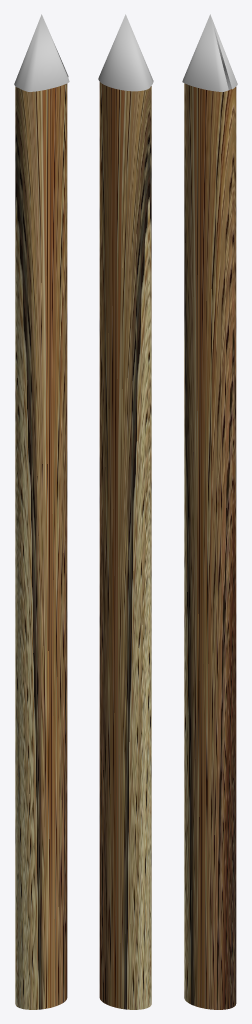
The model's file is Wooden Post.fbx.
The picture shows the model from 3 angles, left to right: view 1: azimuth 30°, elevation 25°; view 2: azimuth 150°, elevation 25°; view 3: azimuth 330°, elevation 25°; orthographic projection.
Parts seen in each view (by area): view 1: Cylinder, Cone_001; view 2: Cylinder, Cone_001; view 3: Cylinder, Cone_001, Cone.
Boxes of the visible parts, x1,y1,x2,y2 form: Cylinder: (15, 83, 67, 1009); Cone_001: (14, 14, 69, 91); Cylinder: (99, 82, 151, 1009); Cone_001: (98, 14, 153, 91); Cylinder: (184, 83, 236, 1009); Cone_001: (182, 14, 237, 91); Cone: (211, 17, 231, 89).
Size of the model in its own units: 0.2158 by 4.11 by 0.1477.
